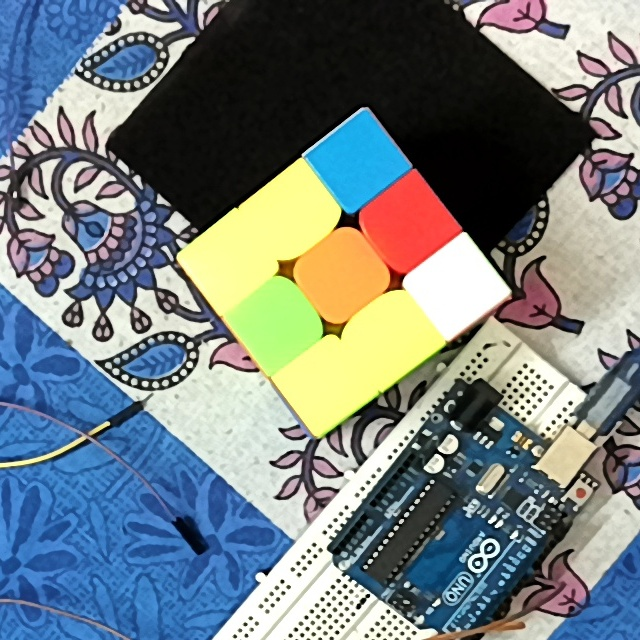tile: (380, 197, 435, 251), (359, 311, 414, 365), (317, 247, 369, 302), (333, 135, 386, 188), (255, 295, 305, 350), (431, 263, 482, 316), (268, 186, 318, 239), (302, 358, 350, 410), (208, 233, 254, 286)
